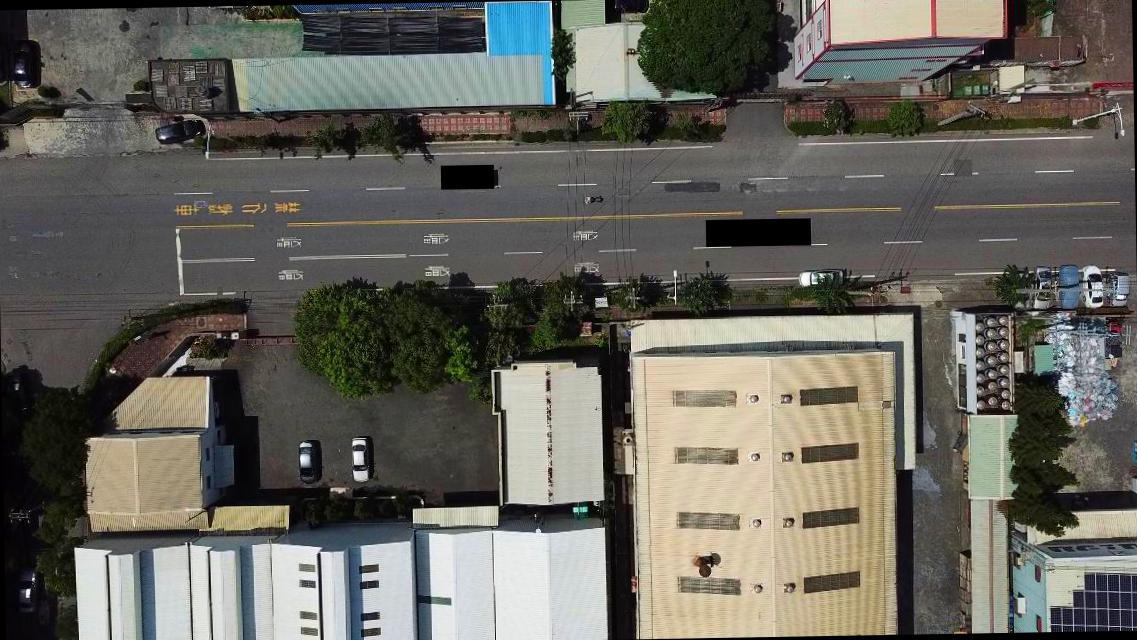vehicle: (13, 42, 40, 88), (154, 120, 202, 144), (14, 568, 38, 616), (349, 436, 370, 486), (298, 440, 320, 484), (1081, 264, 1103, 308), (1106, 272, 1128, 310), (1012, 270, 1032, 310), (1032, 268, 1051, 310), (798, 270, 844, 287)
